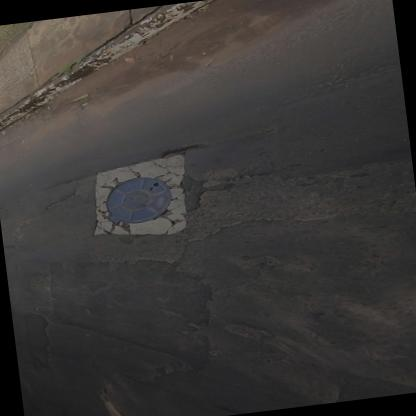manholes: (95, 164, 188, 230)
